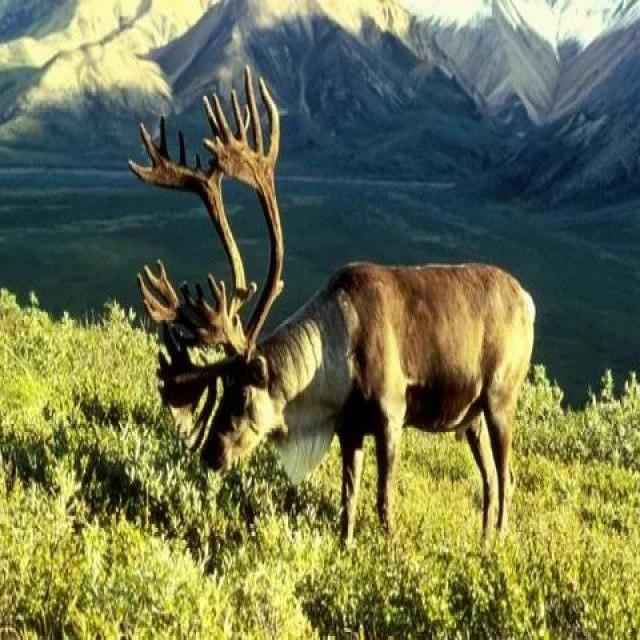deer: (156, 141, 575, 516)
